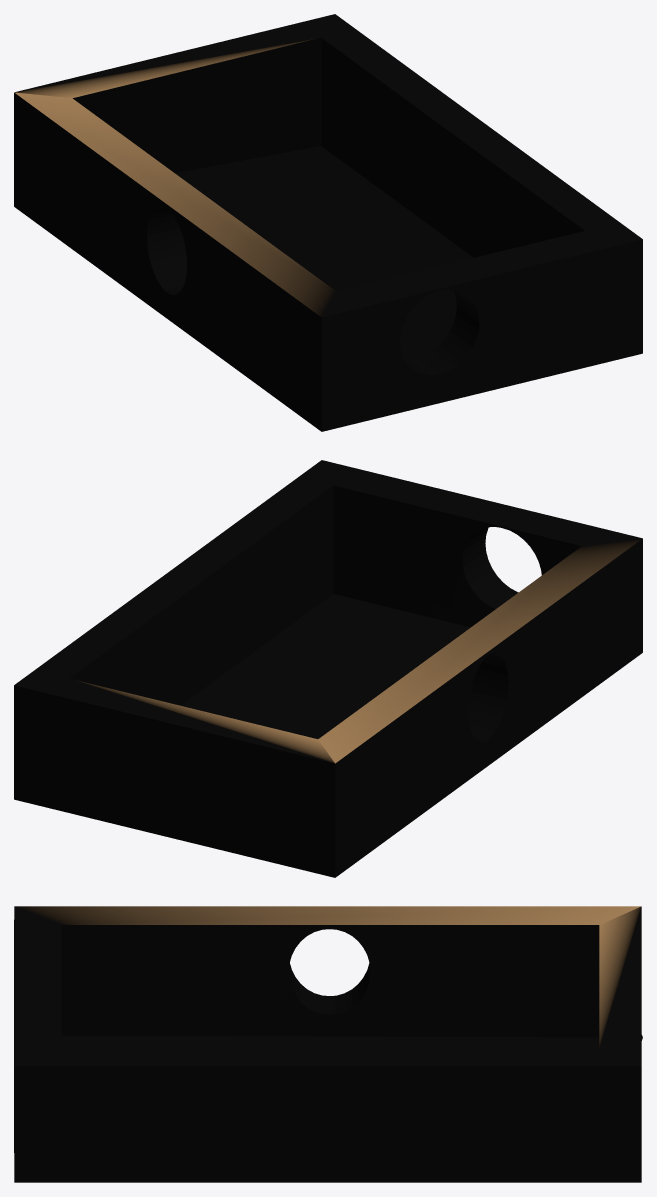
Rendered from boxV2.fbx.
The picture shows the model from 3 angles, top to bottom: view 1: azimuth 30°, elevation 25°; view 2: azimuth 150°, elevation 25°; view 3: azimuth 270°, elevation 25°; orthographic projection.
Visible parts, largest first — view 1: boxV2; view 2: boxV2; view 3: boxV2.
Part boxes in pixels (left/top/right/bottom): boxV2: left=14, top=14, right=642, bottom=431; boxV2: left=14, top=460, right=642, bottom=877; boxV2: left=14, top=906, right=642, bottom=1182.
Size of the model in its own units: 125 by 42.52 by 208.
